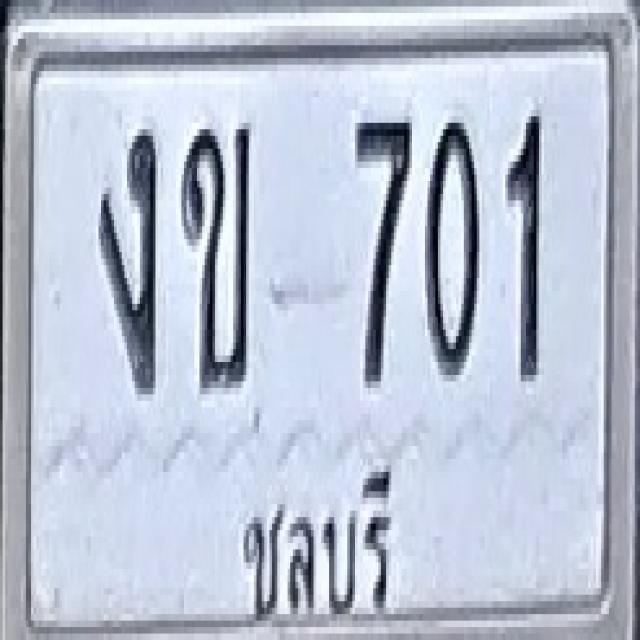0: (425, 110, 479, 375)
1: (505, 107, 542, 378)
7: (354, 110, 411, 381)
A02: (180, 116, 250, 388)
A07: (100, 120, 157, 391)
CBI: (232, 448, 400, 631)
